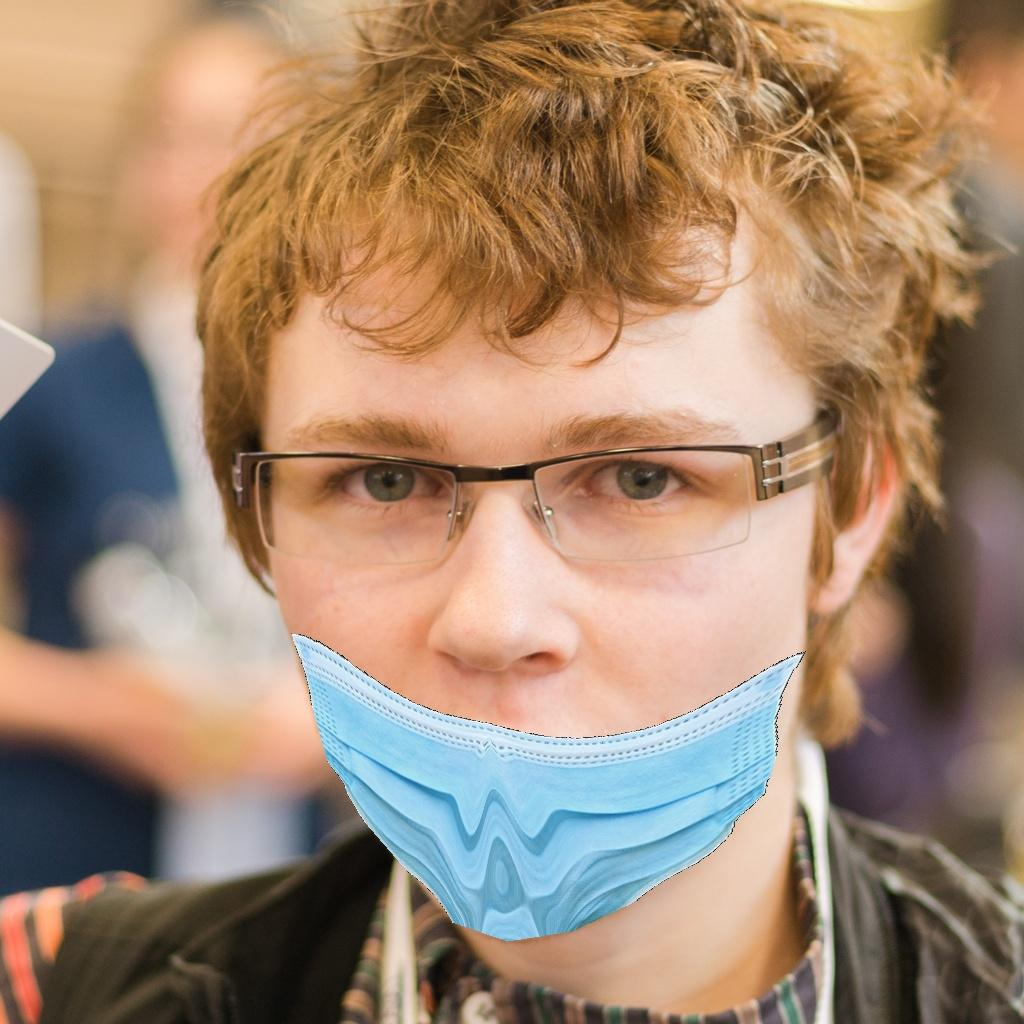Máscara Incorreta: (221, 193, 842, 910)
